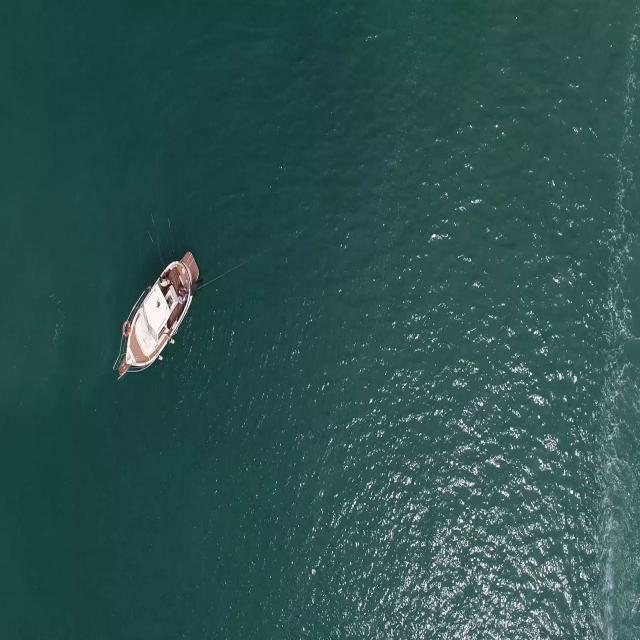boat: (114, 253, 200, 374)
life_buoy: (121, 317, 131, 341)
person: (156, 274, 174, 287), (177, 289, 188, 305)
